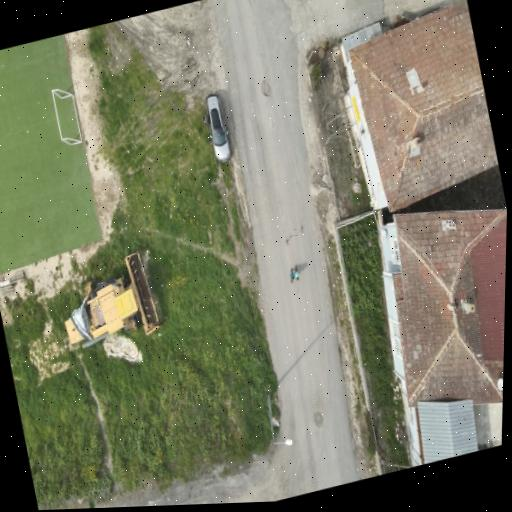car: (206, 94, 229, 161)
harvester: (65, 252, 161, 347)
person: (202, 113, 207, 124), (290, 270, 294, 283), (294, 267, 298, 280)
